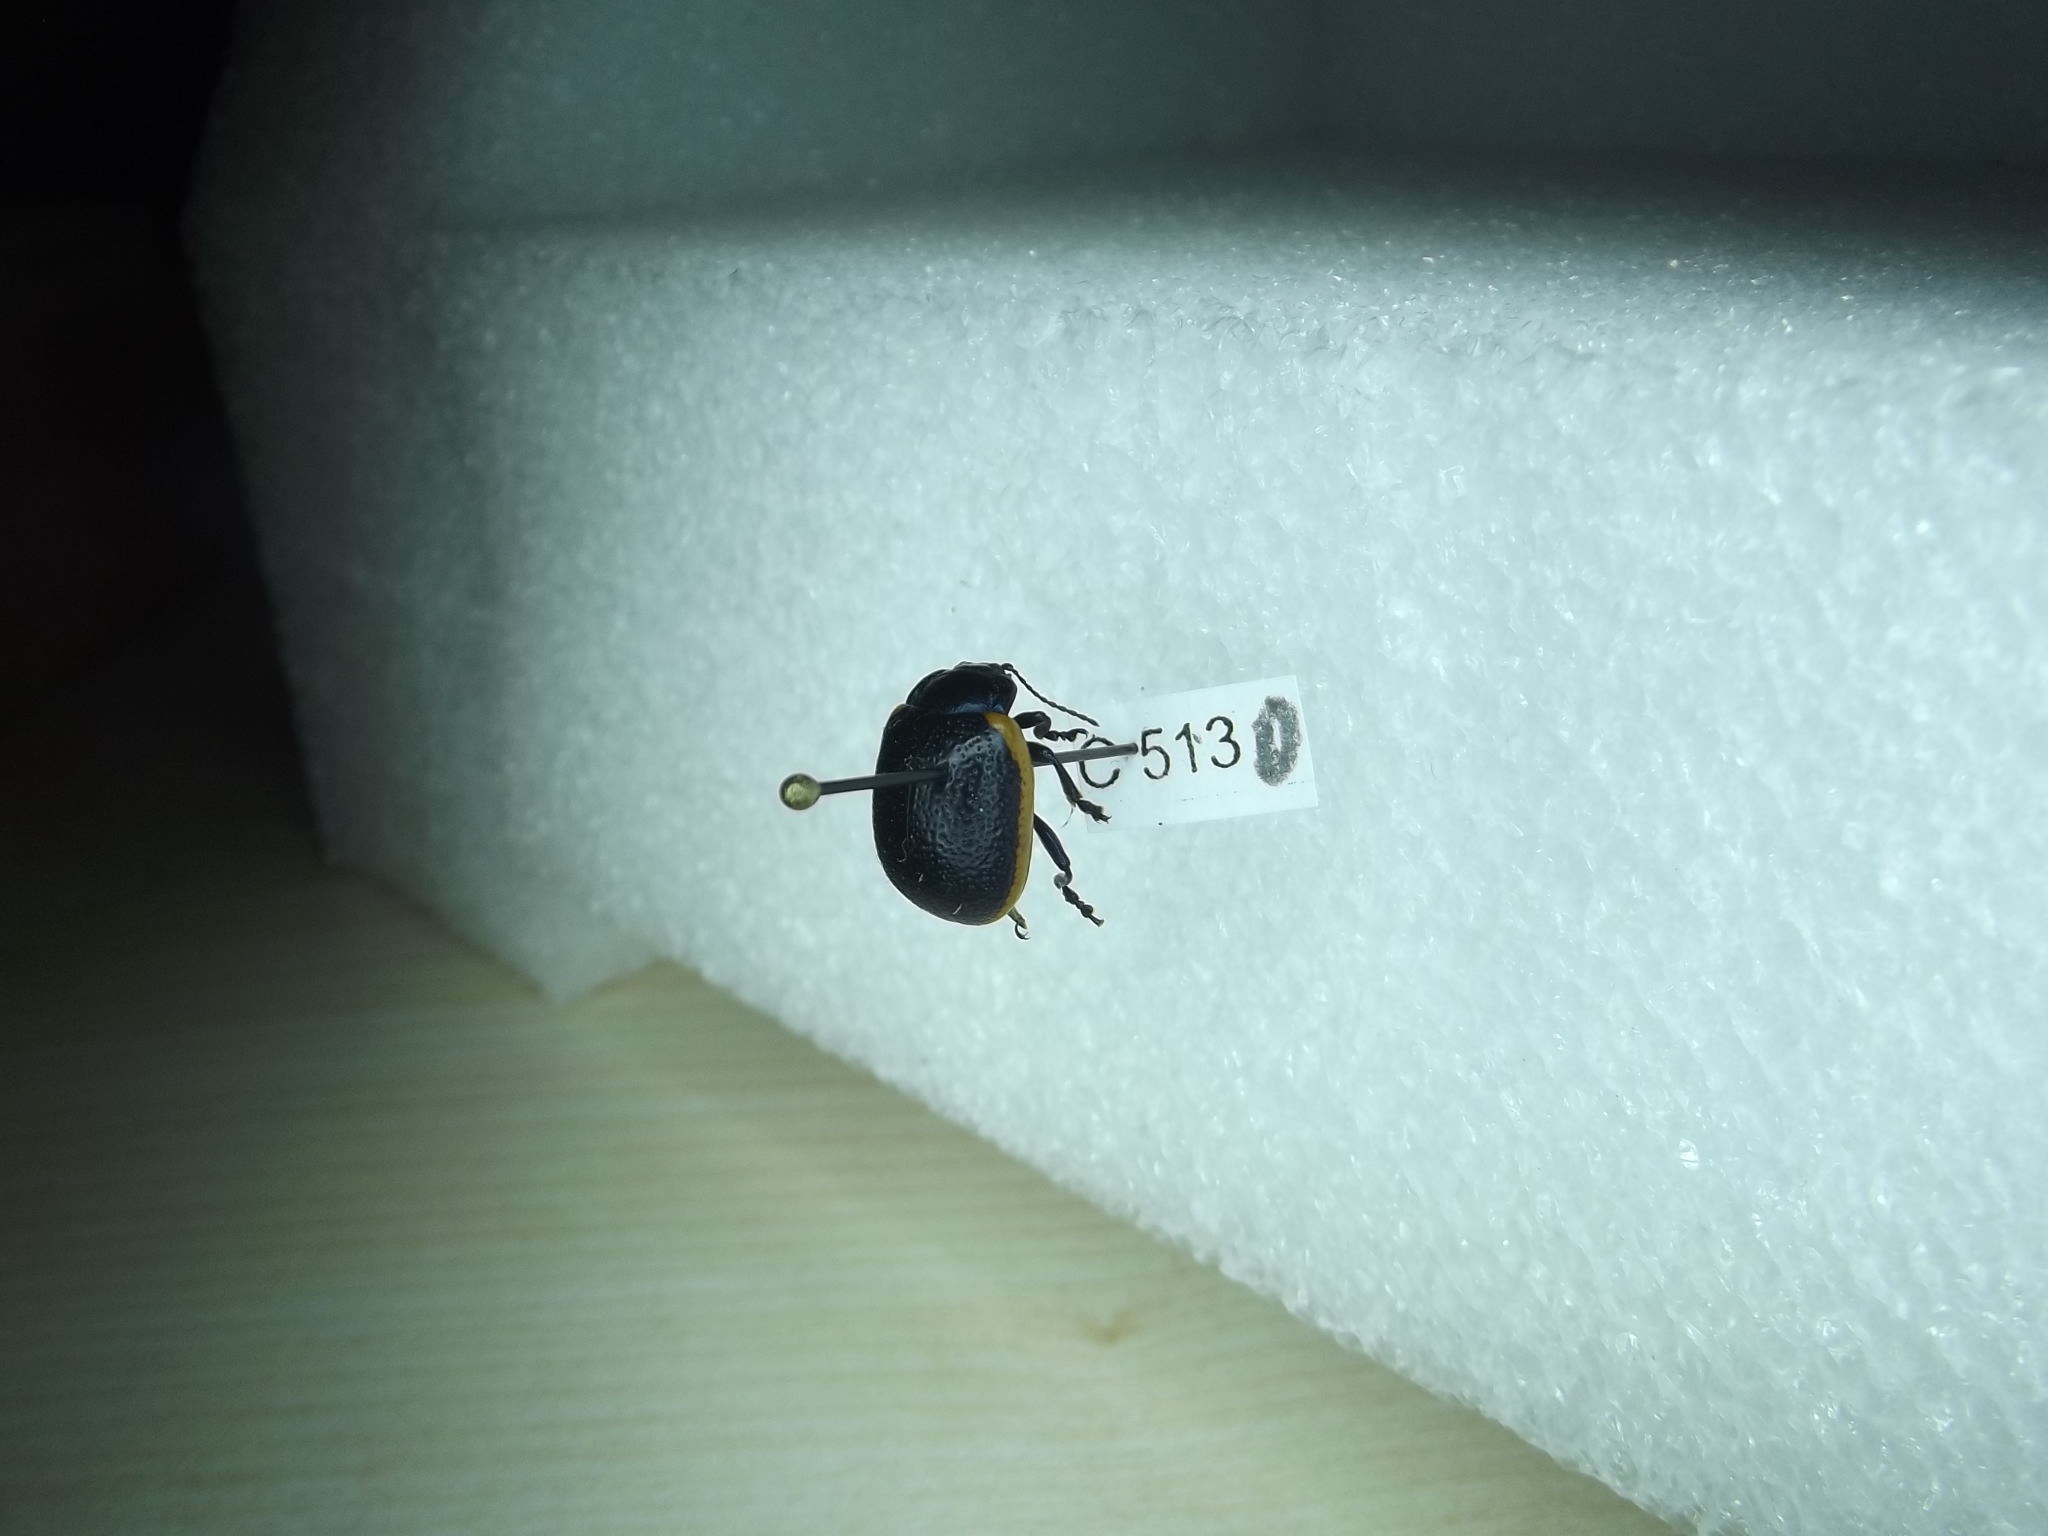Chrysolina_gypsophila: (872, 658, 1118, 955)
